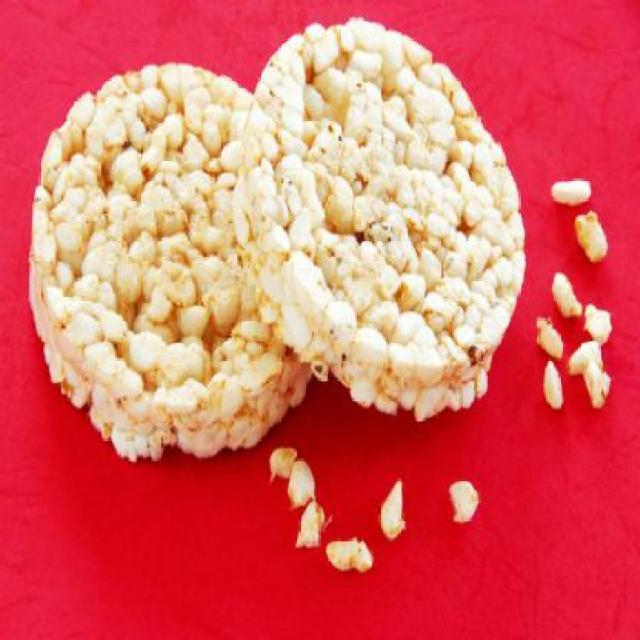Gallette di riso packaged: (21, 43, 327, 464), (240, 19, 532, 410)
